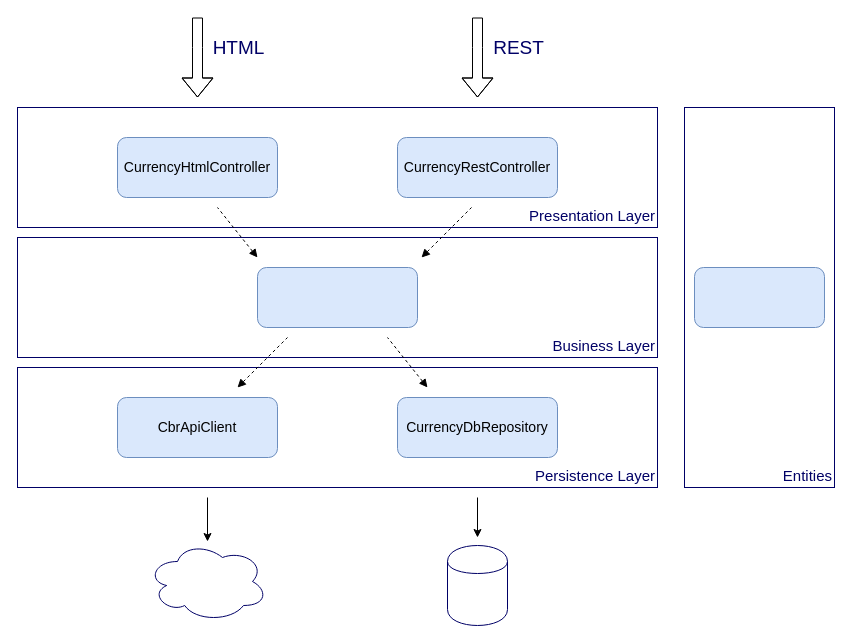
Image size: 852x643. Some labels were removed from this diagram. The shapes that lost their labels are listed below. From the top down, each one's centre as x and y in pixels, then its label:
point (337, 297): CurrencyService
point (759, 297): Currency
point (207, 581): cbr.ru
point (477, 585): MySQL
